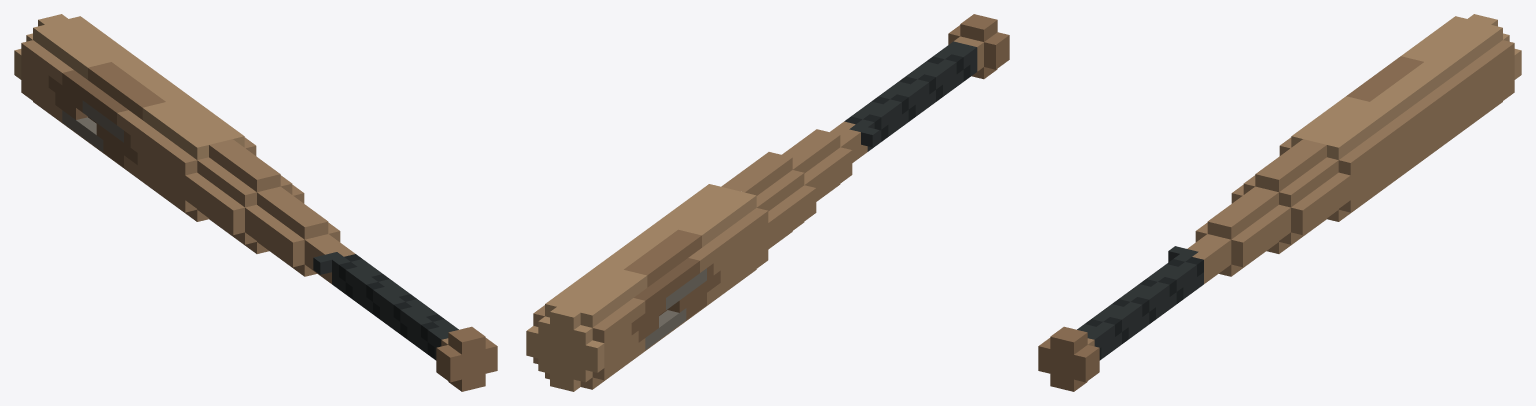
Rendered from Claude_baseball_bat.glb.
The picture shows the model from 3 angles, left to right: view 1: azimuth 30°, elevation 25°; view 2: azimuth 150°, elevation 25°; view 3: azimuth 330°, elevation 25°; orthographic projection.
Parts seen in each view (by area): view 1: Claude_baseball_bat; view 2: Claude_baseball_bat; view 3: Claude_baseball_bat.
Boxes of the visible parts, <box> form: Claude_baseball_bat: <box>14,14,497,391</box>; Claude_baseball_bat: <box>526,14,1009,391</box>; Claude_baseball_bat: <box>1038,14,1521,391</box>.
Size of the model in its own units: 0.075 by 0.075 by 0.775.
